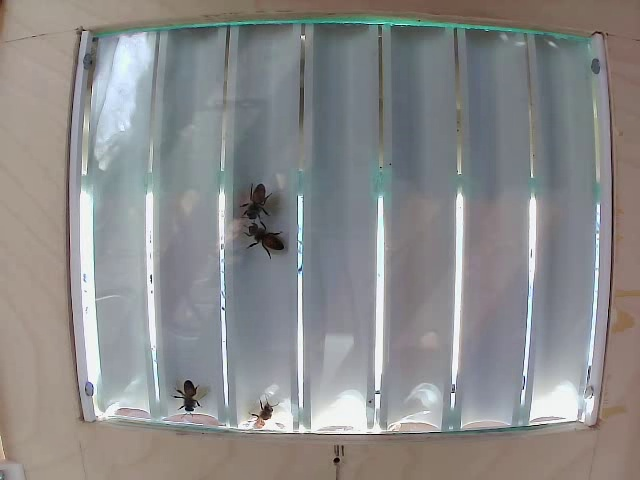bee: (242, 225, 286, 260), (238, 184, 277, 219)
